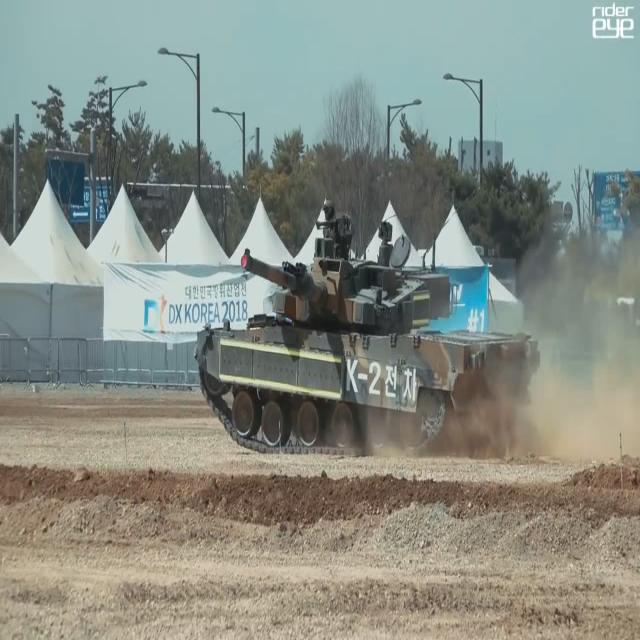korea tank: (194, 199, 543, 460)
